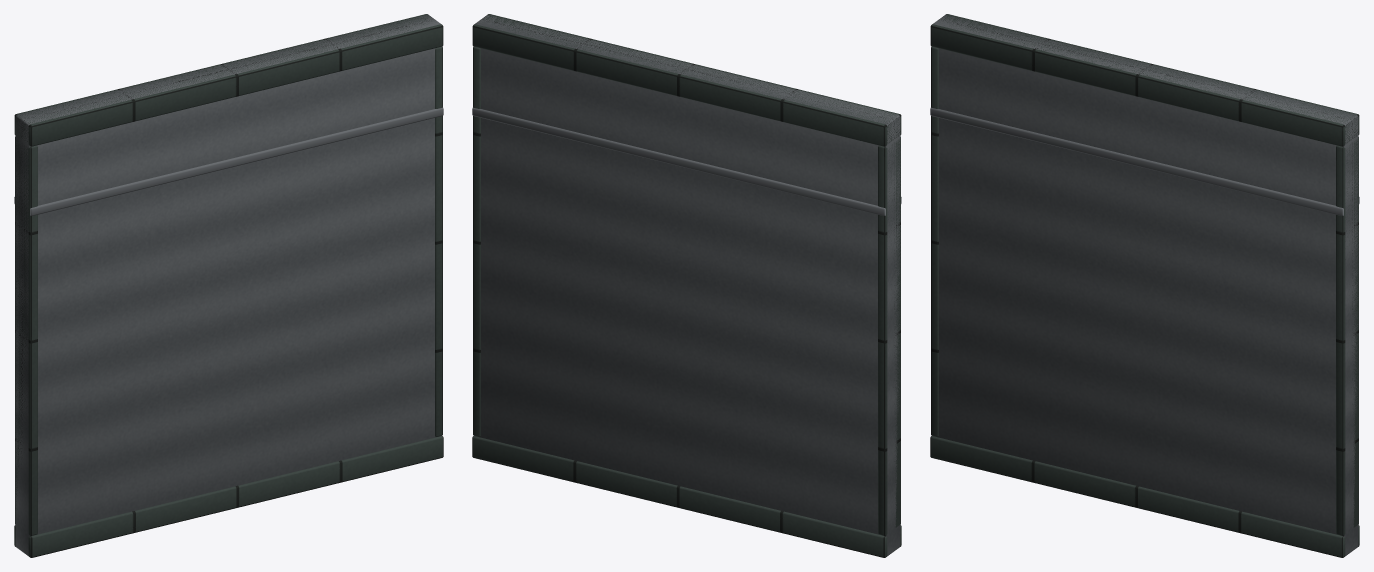
The model's file is WK_WALL_SOLID_A_01.glb.
3 renders of one model, left to right at view 1: azimuth 30°, elevation 25°; view 2: azimuth 150°, elevation 25°; view 3: azimuth 330°, elevation 25°, orthographic.
Parts seen in each view (by area): view 1: WK_WALL_SOLID_A_01; view 2: WK_WALL_SOLID_A_01; view 3: WK_WALL_SOLID_A_01.
Part boxes in pixels (x1=…): WK_WALL_SOLID_A_01: x1=14, y1=14, x2=443, y2=557; WK_WALL_SOLID_A_01: x1=472, y1=14, x2=901, y2=557; WK_WALL_SOLID_A_01: x1=930, y1=14, x2=1359, y2=557.
Bounding box in the file's own units: 4 × 4 × 0.29.
3 materials, 2 textured.
